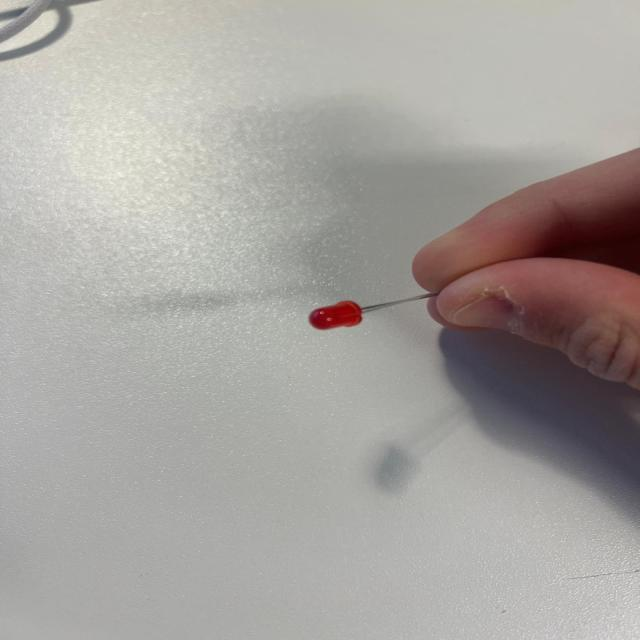REDLed: (279, 299, 469, 362)
